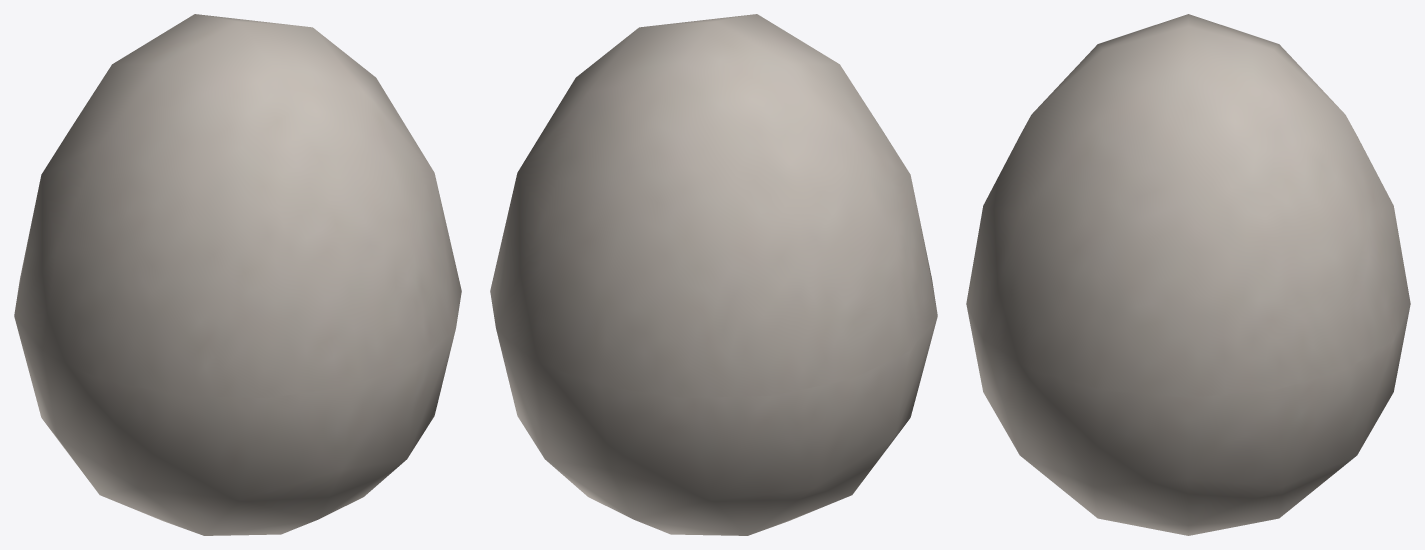
The model's file is hypercasual_prop011.FBX.
3 renders of one model, left to right at view 1: azimuth 30°, elevation 25°; view 2: azimuth 150°, elevation 25°; view 3: azimuth 270°, elevation 25°, orthographic.
Visible parts, largest first — view 1: hypercasual_prop011; view 2: hypercasual_prop011; view 3: hypercasual_prop011.
Part boxes in pixels (box(x1,y1,x2,y2)): hypercasual_prop011: box(14, 14, 461, 535); hypercasual_prop011: box(490, 14, 937, 535); hypercasual_prop011: box(966, 14, 1410, 535).
Size of the model in its own units: 0.4885 by 0.5909 by 0.4885.
Materials: 1 (1 with a texture image).
